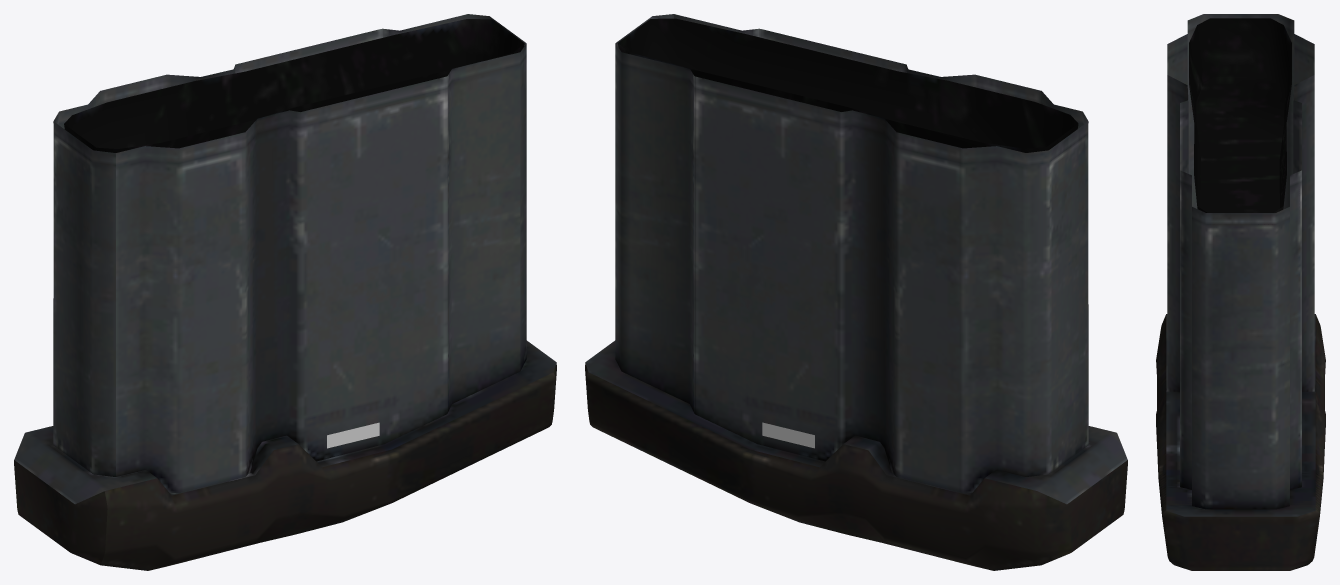
The model's file is SRS99_AM_Magazine.fbx.
3 renders of one model, left to right at view 1: azimuth 30°, elevation 25°; view 2: azimuth 150°, elevation 25°; view 3: azimuth 270°, elevation 25°, orthographic. The views are drawn at different scales.
Visible parts, largest first — view 1: Magazine1.001; view 2: Magazine1.001; view 3: Magazine1.001.
Boxes of the visible parts, x1=… form: Magazine1.001: x1=14, y1=14, x2=556, y2=570; Magazine1.001: x1=585, y1=14, x2=1127, y2=570; Magazine1.001: x1=1156, y1=14, x2=1325, y2=570.
Bounding box in the file's own units: 11.66 × 9.68 × 3.8.
2 materials, 1 textured.
